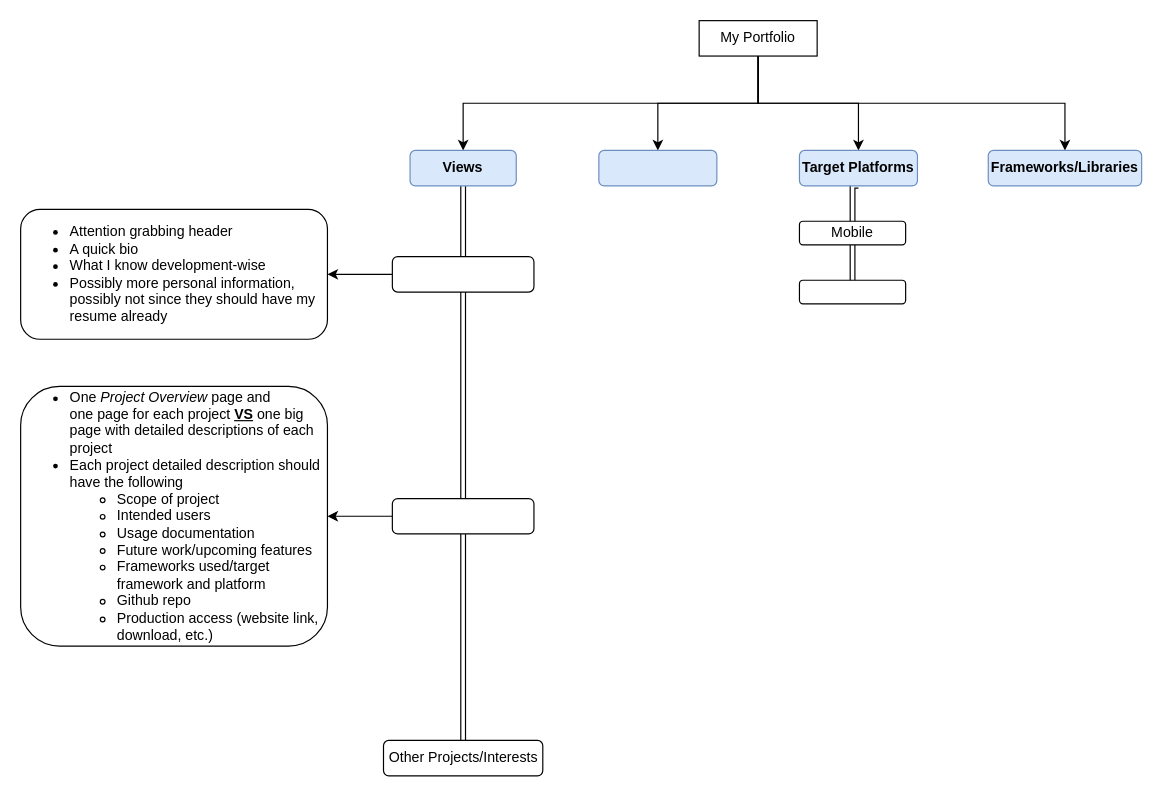
The diagram is 1162 pixels wide and 796 high, and some of its shapes have lost their labels. The shapes that lost their labels are listed below. From the top down, each one's centre as x and y in pixels, then its label:
[657,167]: Functions
[462,273]: About Me
[852,291]: Desktop
[462,515]: Software Projects
